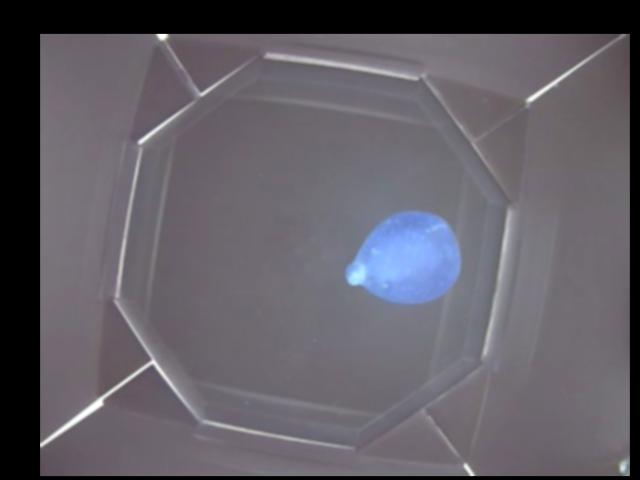Potato: (342, 210, 460, 307)
